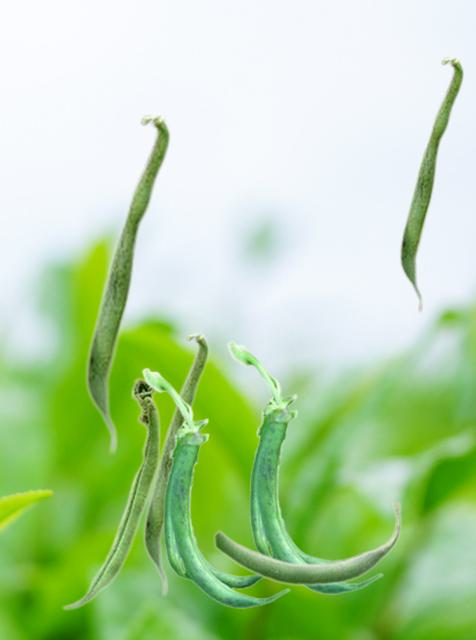french_bean: (226, 340, 382, 594), (141, 367, 289, 608), (84, 112, 171, 455), (61, 376, 160, 610), (142, 331, 209, 597), (398, 55, 464, 315), (213, 502, 401, 586)
